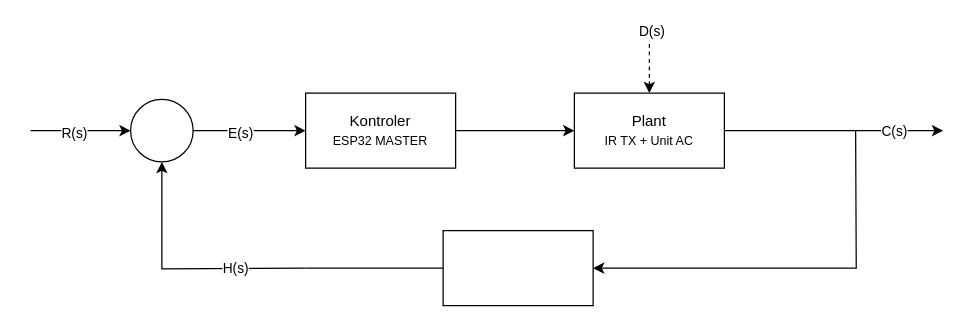
Some shapes in this 975 by 328 pixel diagram are drawn without their labels. Here are the shapes that lost their labels. From the top down, the centre of each, then its label:
pixel 161 130: SUM (+ -)
pixel 517 267: SENSOR DHT22 + PERON COUNTER
